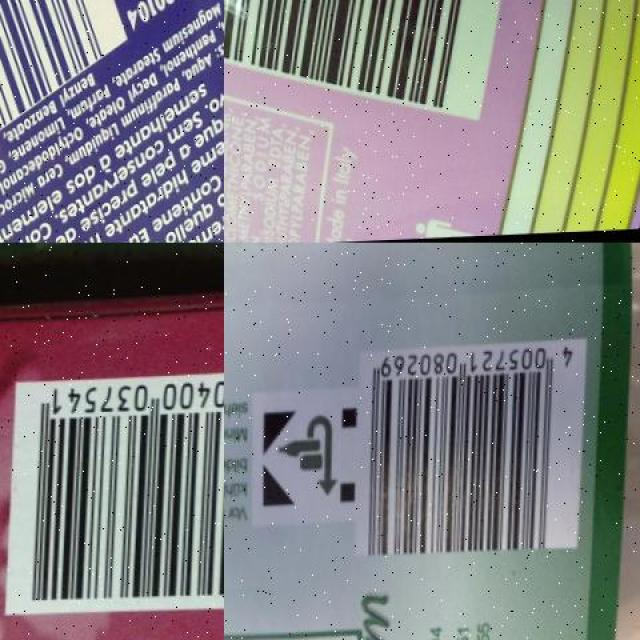Barcode: (11, 372, 224, 620), (355, 345, 588, 562), (224, 0, 529, 139), (0, 0, 137, 212)
